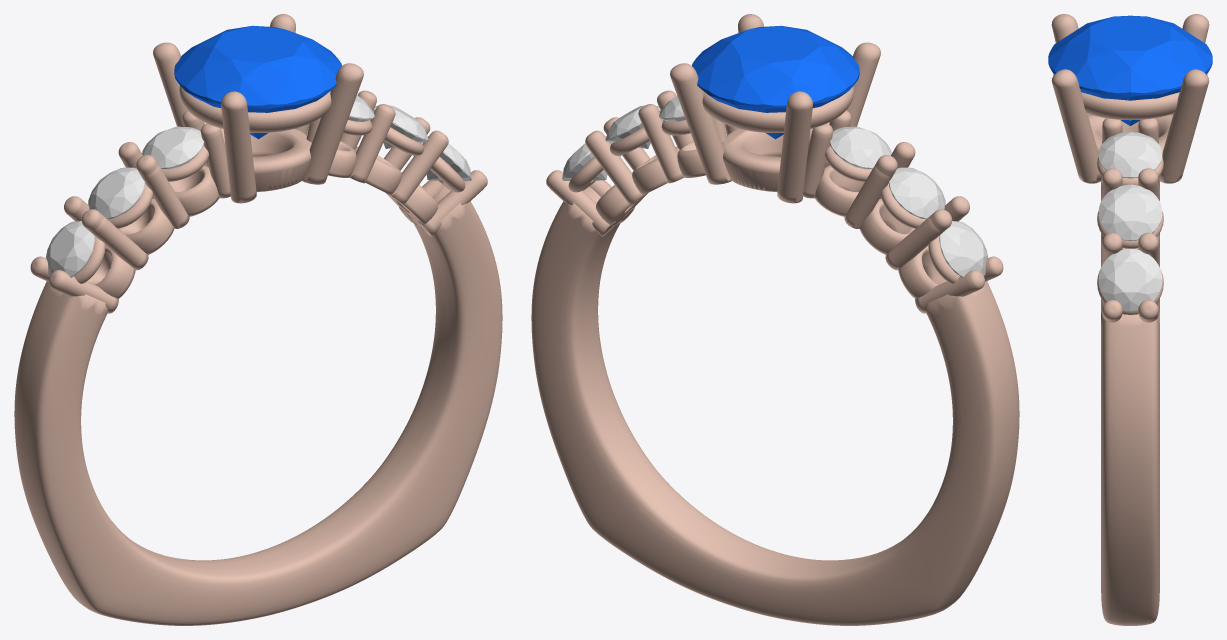
File: bluesapphire-round-rosegold-4prong-europeanshank-3stone.glb
The picture shows the model from 3 angles, left to right: view 1: azimuth 30°, elevation 25°; view 2: azimuth 150°, elevation 25°; view 3: azimuth 270°, elevation 25°; orthographic projection. The views are drawn at different scales.
Parts seen in each view (by area): view 1: metal, stone, side, side.001, side.002, side.004, side.005; view 2: metal, stone, side, side.001, side.002, side.004, side.005; view 3: metal, stone, side.005, side.004, side.003.
Boxes of the visible parts, bbox=[...] form: metal: bbox=[14, 14, 502, 625]; stone: bbox=[174, 25, 341, 139]; side: bbox=[88, 167, 144, 219]; side.001: bbox=[46, 221, 94, 277]; side.002: bbox=[142, 126, 204, 169]; side.004: bbox=[373, 105, 428, 148]; side.005: bbox=[422, 136, 471, 180]; metal: bbox=[531, 14, 1019, 625]; stone: bbox=[692, 25, 859, 139]; side: bbox=[889, 167, 945, 219]; side.001: bbox=[939, 221, 987, 277]; side.002: bbox=[829, 126, 891, 169]; side.004: bbox=[605, 105, 660, 148]; side.005: bbox=[562, 136, 611, 180]; metal: bbox=[1051, 14, 1209, 625]; stone: bbox=[1048, 15, 1212, 125]; side.005: bbox=[1098, 248, 1162, 310]; side.004: bbox=[1098, 184, 1162, 240]; side.003: bbox=[1098, 131, 1162, 178].
Size of the model in its own units: 20.71 by 23.81 by 6.44.
